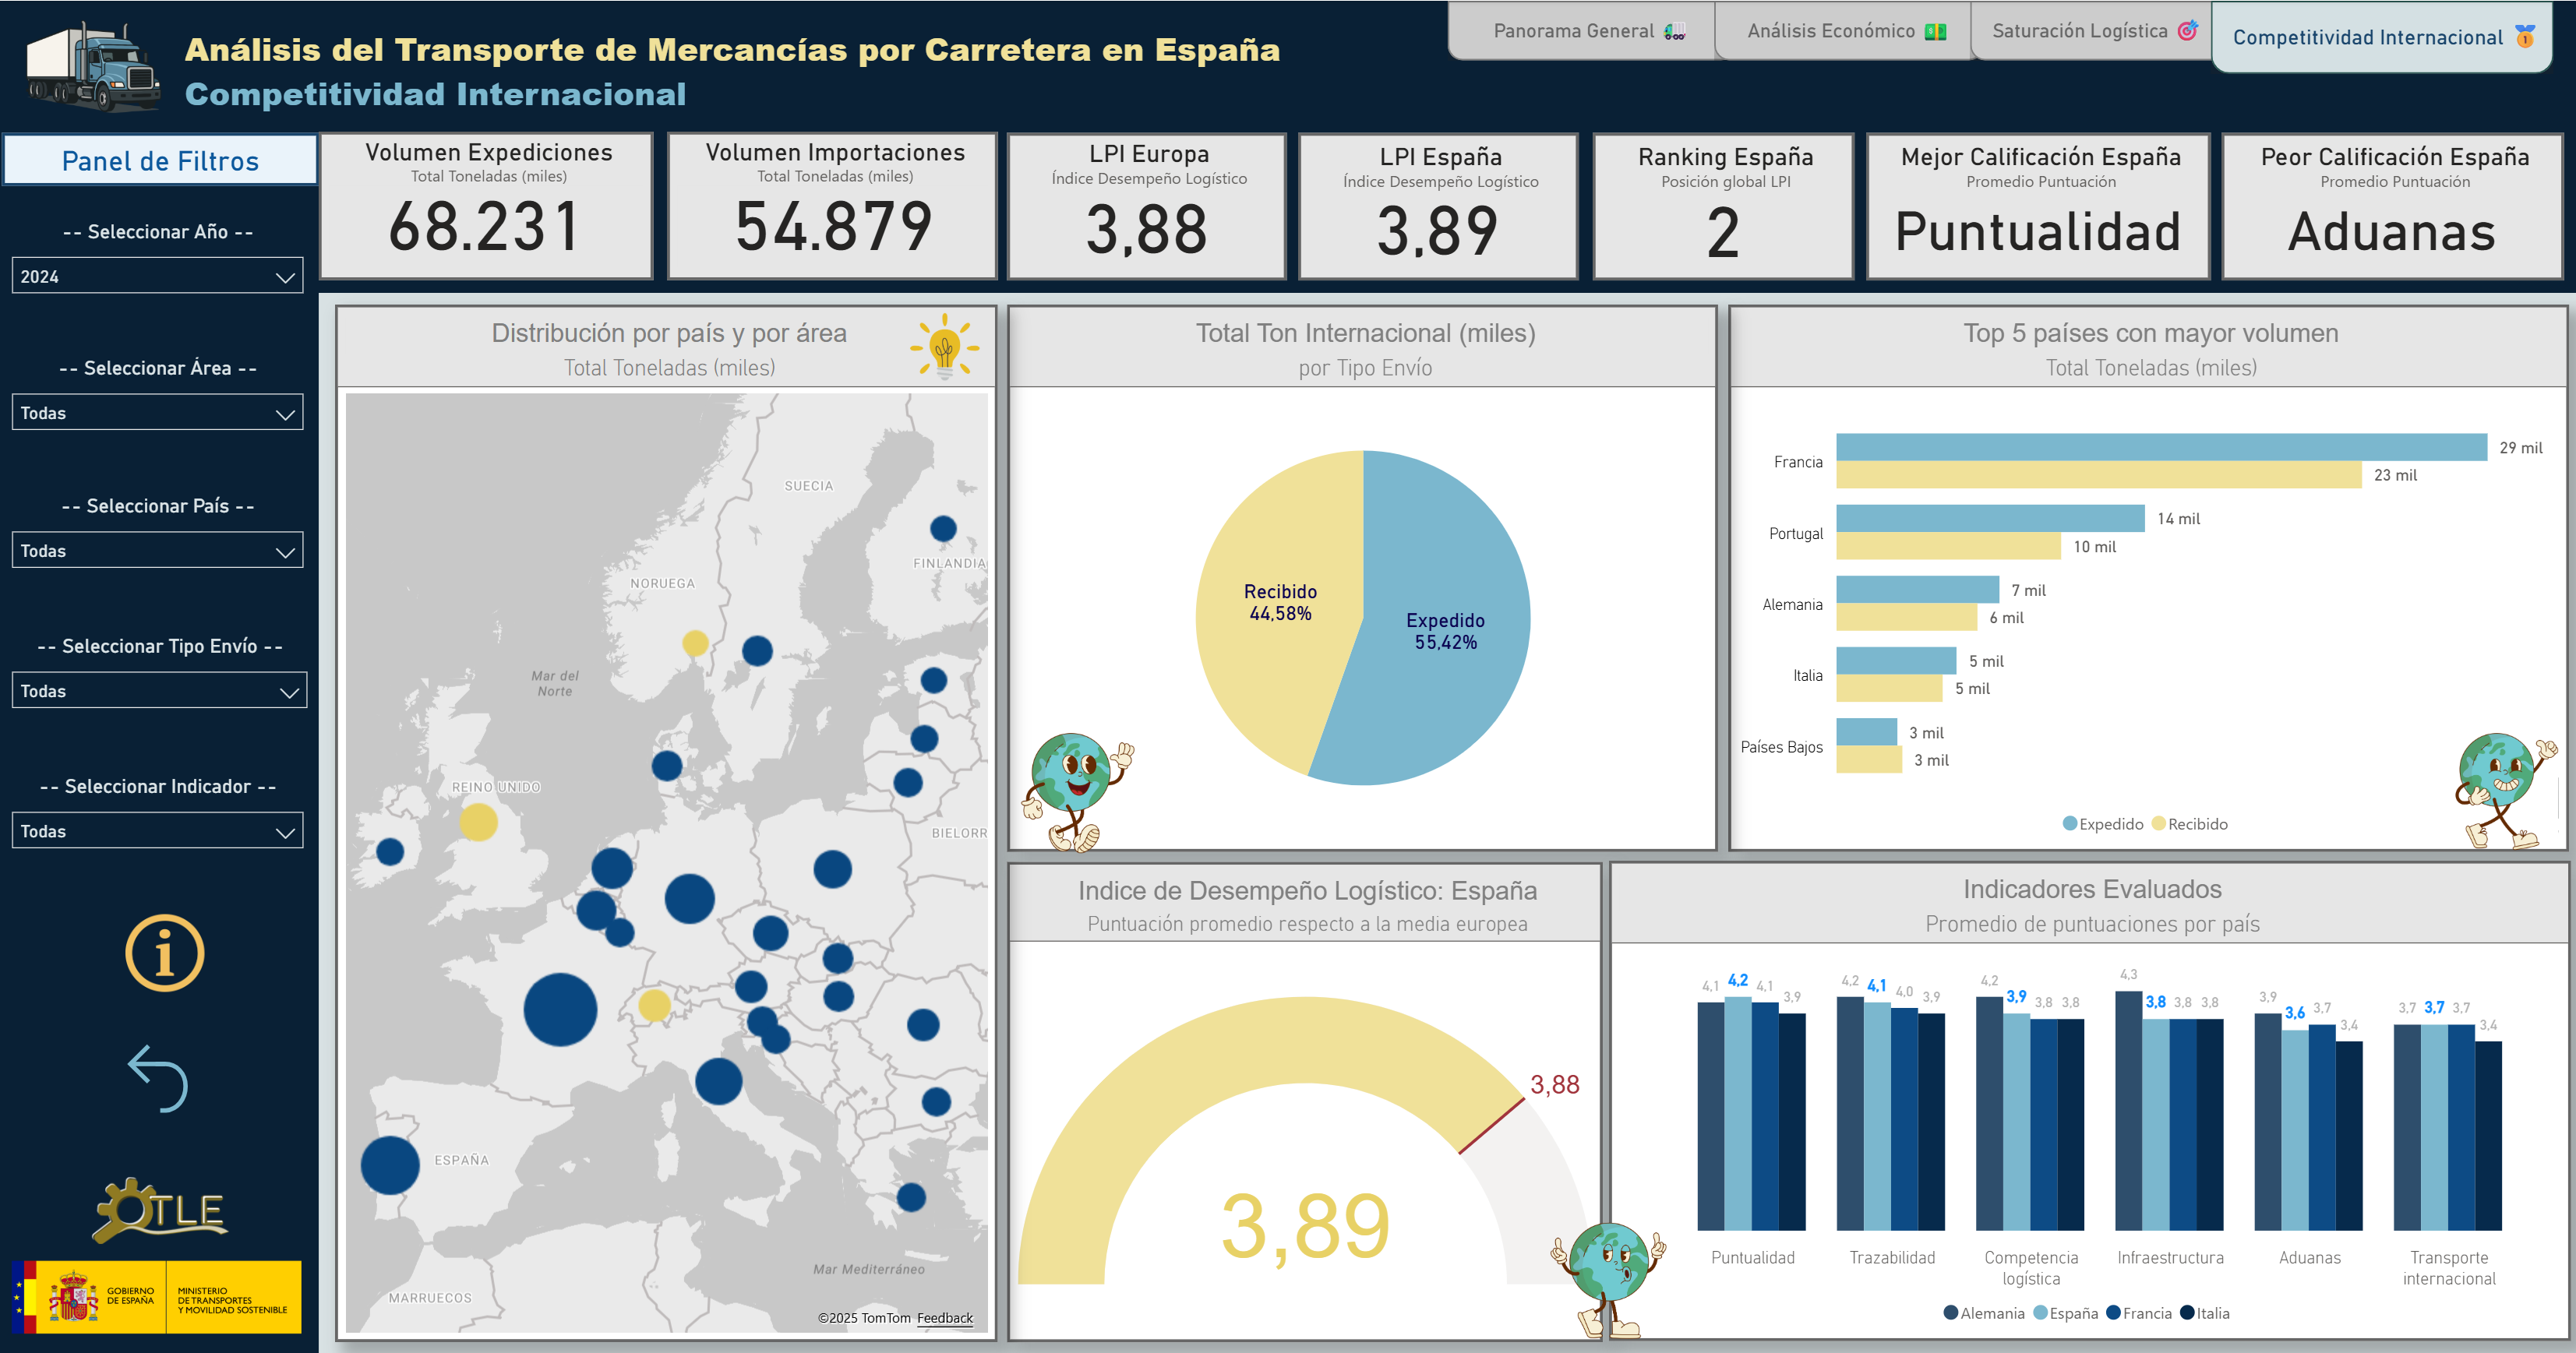

Layout of this report page (visuals, bound fields, positions):
{"tool":"powerbi","page":{"name":"Competitividad Internacional","canvas":[1747,920],"ordinal":4},"visuals":[{"type":"group","id":"g1","title":"Panel diseño","box":[0,0,1799.4,919.6],"z":0},{"type":"shape","box":[0,0,1799.4,197.8],"z":0,"group":"g1"},{"type":"shape","box":[0,81,218.5,838.5],"z":1000,"group":"g1"},{"type":"cardVisual","title":"Ranking España","fields":{"Data":["Avg(Indice Desempeño (LPI).Ranking)"]},"box":[1080.7,89.1,177,100],"z":1000},{"type":"textbox","box":[122.3,11.7,759,75.5],"z":2000,"group":"g1"},{"type":"image","title":"Info 4","box":[79.1,613.3,70.1,62.9],"z":2000},{"type":"slicer","title":"-- Seleccionar Año --","fields":{"Values":["Año Dim.Año"]},"box":[0.9,148.4,217.6,63.8],"z":3000},{"type":"slicer","title":"-- Seleccionar Área --","fields":{"Values":["Dim Paises.Área"]},"box":[0.9,241.4,217.6,63],"z":4000},{"type":"slicer","title":"-- Seleccionar País --","fields":{"Values":["Dim Paises.País"]},"box":[0.9,335.1,217.6,63.9],"z":5000},{"type":"image","title":"Ocultar Info Pag 2","box":[949.3,777.2,57.4,81.3],"z":6000},{"type":"slicer","title":"-- Seleccionar Indicador --","fields":{"Values":["Indice Desempeño (LPI).Indicador"]},"box":[0.9,524.3,217.6,63.8],"z":7000},{"type":"slicer","title":"-- Seleccionar Tipo Envío --","fields":{"Values":["Tipo Envio Dim.Tipo Envío"]},"box":[0.9,429.9,220.3,63.8],"z":8000},{"type":"textbox","box":[3.6,89,214.9,36],"z":9000},{"type":"clusteredBarChart","title":"Top 5 países con mayor volumen","fields":{"Category":["Dim Paises.País"],"Y":["Medidas Internacional.Total Ton Internacional (miles)"],"Series":["Dim Tipo Envio.Tipo Envío"]},"box":[1172.9,206,569.1,370.6],"z":10000},{"type":"cardVisual","title":"Mejor Calificación España","fields":{"Data":["Min(Indice Desempeño (LPI).Indicador)"]},"box":[1266.1,89.4,233.4,99.7],"z":11000},{"type":"cardVisual","title":"LPI Europa","fields":{"Data":["Medidas Internacional.LPI Promedio"]},"box":[684.8,89.4,189.1,100],"z":12000},{"type":"shape","box":[982.9,0,195,40.4],"z":13000},{"type":"shape","box":[1163.5,0,182.5,40.4],"z":14000},{"type":"shape","box":[1336.4,0,172.9,40.4],"z":15000},{"type":"shape","box":[1499.1,0,232,49.5],"z":16000},{"type":"image","box":[4,846.7,208.9,62.5],"z":17000},{"type":"image","box":[9.5,791.3,203.4,55.4],"z":18000},{"type":"actionButton","box":[80,699.6,59.4,61.2],"z":19000},{"type":"cardVisual","title":"LPI España","fields":{"Data":["Medidas Internacional.LPI Promedio España"]},"box":[881.5,89.1,189.9,100],"z":20000},{"type":"pieChart","fields":{"Category":["Dim Tipo Envio.Tipo Envío"],"Y":["Medidas Internacional.Total Ton Internacional (miles)"]},"box":[684.8,206,481.6,370.6],"z":22000},{"type":"cardVisual","title":"Peor Calificación España","fields":{"Data":["Min(Indice Desempeño (LPI).Indicador)"]},"box":[1506.6,89.4,231.8,99.7],"z":23000},{"type":"cardVisual","title":"Volumen Expediciones","fields":{"Data":["Medidas Internacional.Total Ton Internacional (miles)"]},"box":[218.7,88.8,226.9,100.6],"z":24000},{"type":"gauge","title":"Indice de Desempeño Logístico: España","fields":{"TargetValue":["Medidas Internacional.LPI Promedio"],"Y":["Medidas Internacional.LPI Promedio España"],"MaxValue":["Medidas Internacional.MAximo"],"MinValue":["Medidas Internacional.Minimo"]},"box":[684.8,583.2,403.5,325.4],"z":25000},{"type":"clusteredColumnChart","title":"Indicadores Evaluados","fields":{"Category":["Indice Desempeño (LPI).Indicador"],"Y":["Medidas Internacional.LPI Promedio"],"Series":["Dim Paises.País"]},"box":[1092,582.4,651.2,325.2],"z":26000},{"type":"azureMap","title":"Distribución por país y por área","fields":{"Series":["Dim Paises.Área"],"Category":["Dim Paises.País","Dim Paises.Área"],"Size":["Medidas Internacional.Total Ton Internacional (miles)"]},"box":[229.1,205.6,448.9,702.5],"z":27000},{"type":"cardVisual","title":"Volumen Importaciones","fields":{"Data":["Medidas Internacional.Total Ton Internacional (miles)"]},"box":[453.8,88.8,224.2,100.6],"z":28000},{"type":"image","box":[684.6,490.8,95.7,91.6],"z":29000},{"type":"image","box":[1653,490.8,94,89.9],"z":30000},{"type":"image","box":[1044.1,819.2,96.2,92.6],"z":31000},{"type":"image","box":[9.9,0,111.5,80.9],"z":32000},{"type":"image","box":[613,205.7,58.4,57.6],"z":33000}]}

Visuals, with their boxes in screenshot pixels (x1, y1, x2, y2), scaled from the page's 1747x920 canvas onto the 2576x1353 screenshot:
"Panel diseño" group: (0, 0, 2575, 1352)
shape: (0, 0, 2575, 291)
shape: (0, 119, 322, 1352)
"Ranking España" cardVisual: (1593, 131, 1854, 278)
textbox: (180, 17, 1300, 129)
"Info 4" image: (117, 902, 220, 995)
"-- Seleccionar Año --" slicer: (2, 218, 322, 312)
"-- Seleccionar Área --" slicer: (2, 355, 322, 448)
"-- Seleccionar País --" slicer: (2, 493, 322, 587)
"Ocultar Info Pag 2" image: (1399, 1143, 1484, 1263)
"-- Seleccionar Indicador --" slicer: (2, 771, 322, 865)
"-- Seleccionar Tipo Envío --" slicer: (2, 632, 326, 726)
textbox: (5, 131, 322, 184)
"Top 5 países con mayor volumen" clusteredBarChart: (1730, 303, 2569, 848)
"Mejor Calificación España" cardVisual: (1867, 132, 2211, 278)
"LPI Europa" cardVisual: (1010, 132, 1289, 279)
shape: (1449, 0, 1737, 59)
shape: (1716, 0, 1985, 59)
shape: (1971, 0, 2225, 59)
shape: (2211, 0, 2553, 72)
image: (6, 1246, 314, 1337)
image: (14, 1164, 314, 1246)
actionButton: (118, 1029, 206, 1119)
"LPI España" cardVisual: (1300, 131, 1580, 278)
pieChart - Dim Tipo Envio.Tipo Envío x Medidas Internacional.Total Ton Internacional (miles): (1010, 303, 1720, 848)
"Peor Calificación España" cardVisual: (2221, 132, 2564, 278)
"Volumen Expediciones" cardVisual: (323, 131, 657, 279)
"Indice de Desempeño Logístico: España" gauge: (1010, 858, 1604, 1336)
"Indicadores Evaluados" clusteredColumnChart: (1610, 857, 2571, 1335)
"Distribución por país y por área" azureMap: (338, 302, 1000, 1336)
"Volumen Importaciones" cardVisual: (669, 131, 1000, 279)
image: (1010, 722, 1151, 857)
image: (2437, 722, 2575, 854)
image: (1540, 1205, 1681, 1341)
image: (15, 0, 179, 119)
image: (904, 302, 990, 387)
